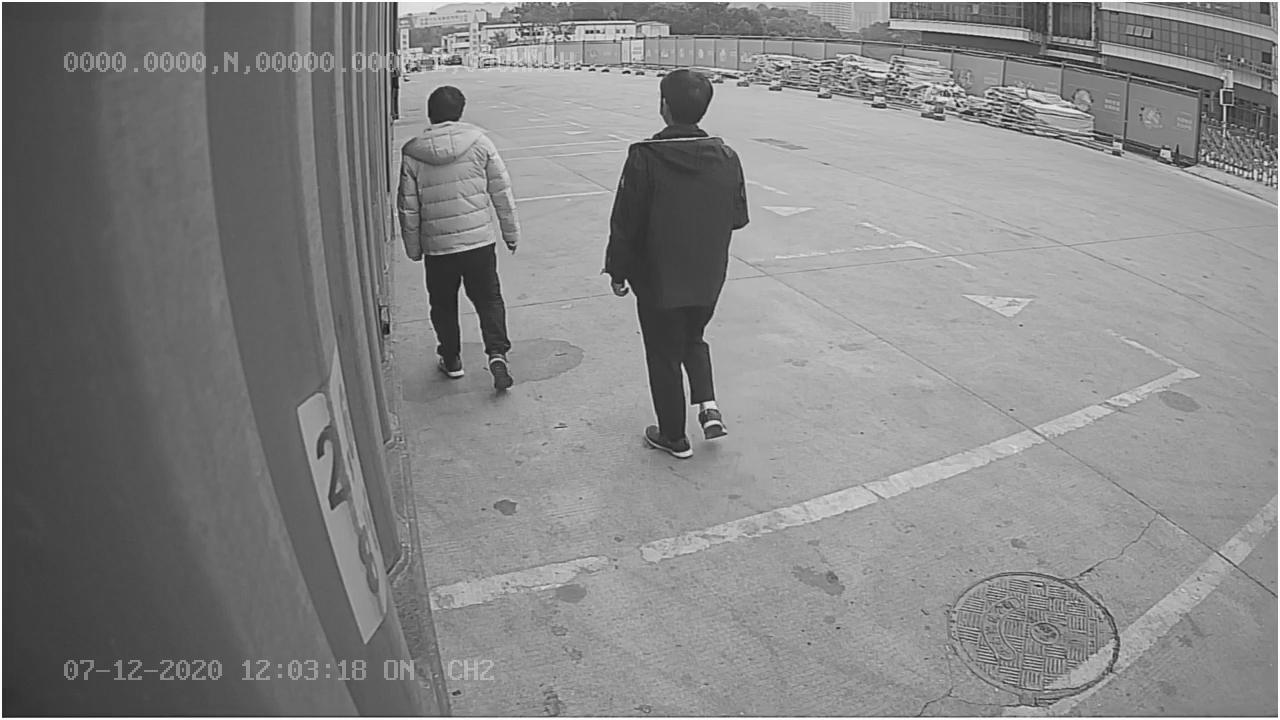person: (599, 61, 752, 460), (397, 83, 525, 388)
